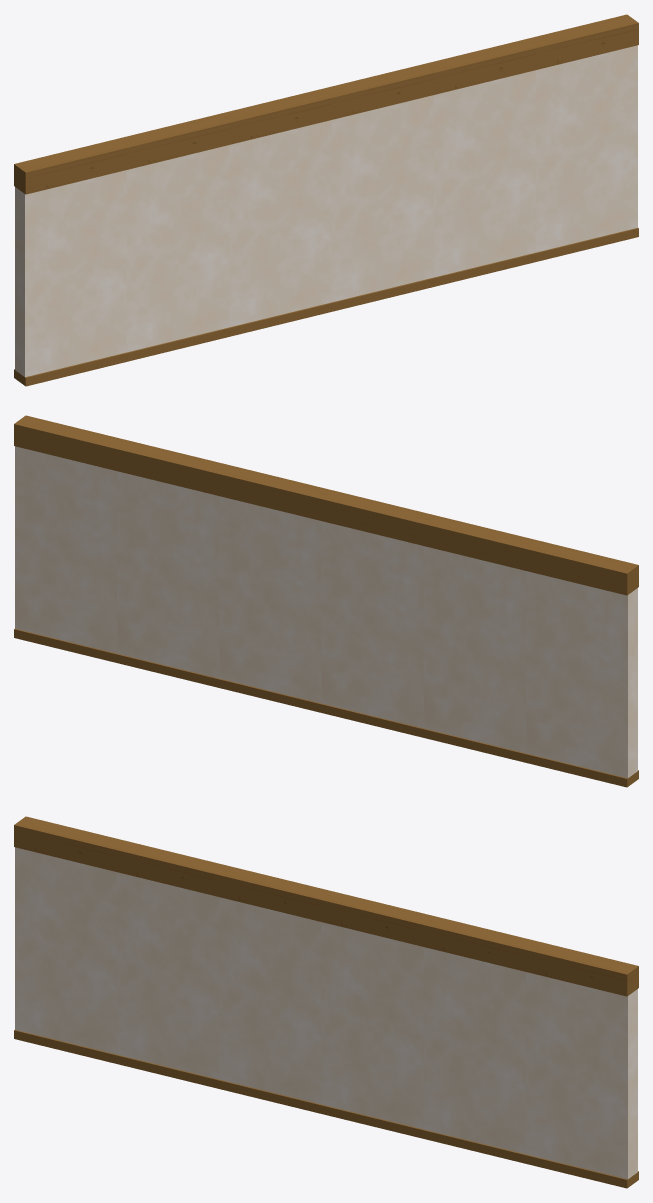
The model's file is wall_6.fbx.
3 views of the same model, one above another, from view 1: azimuth 30°, elevation 25°; view 2: azimuth 150°, elevation 25°; view 3: azimuth 330°, elevation 25° (orthographic).
Visible parts, largest first — view 1: wall06; view 2: wall06; view 3: wall06.
Part boxes in pixels (x1,y1,x2,y2): wall06: [14, 14, 638, 386]; wall06: [14, 415, 638, 787]; wall06: [14, 816, 638, 1188].
Bounding box in the file's own units: 600 × 200 × 20.
